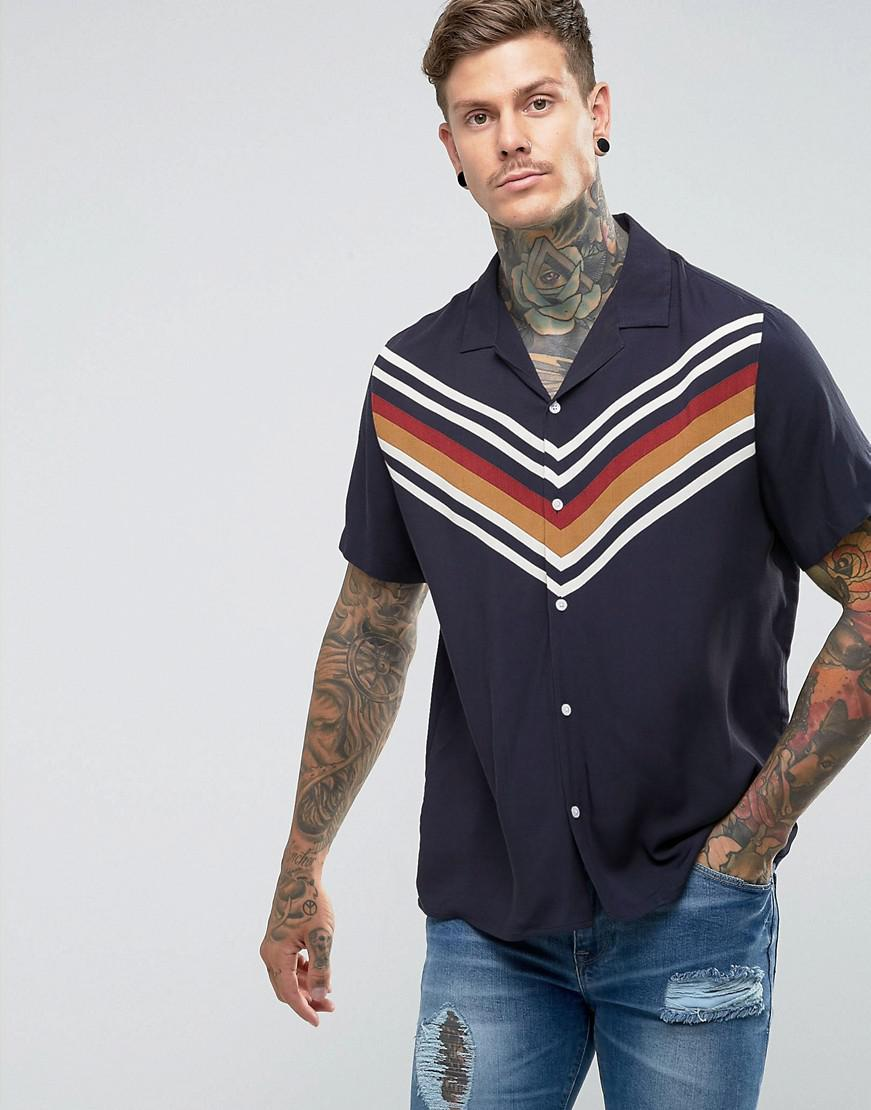teeshirt: (339, 200, 871, 927)
